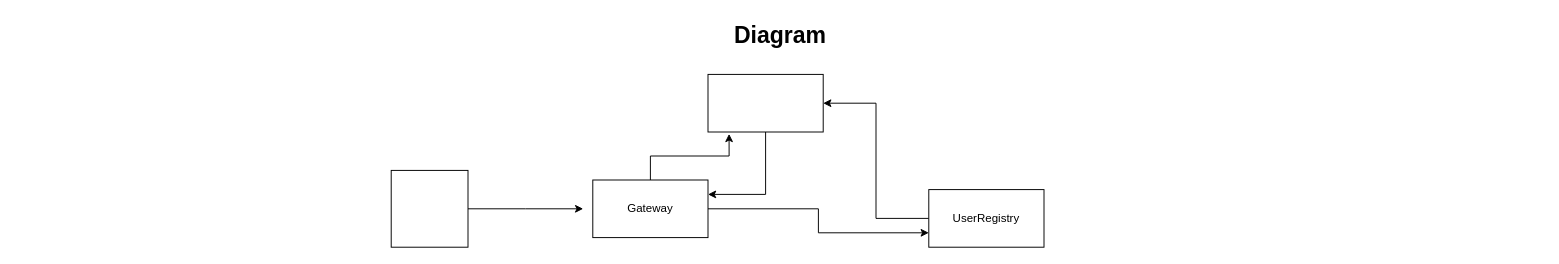
Some shapes in this 1559 by 264 pixel diagram are drawn without their labels. The shapes that lost their labels are listed below. From the top down, each one's centre as x and y in pixels, then its label:
At (765,102): "Service registry".
At (429,208): "external".
